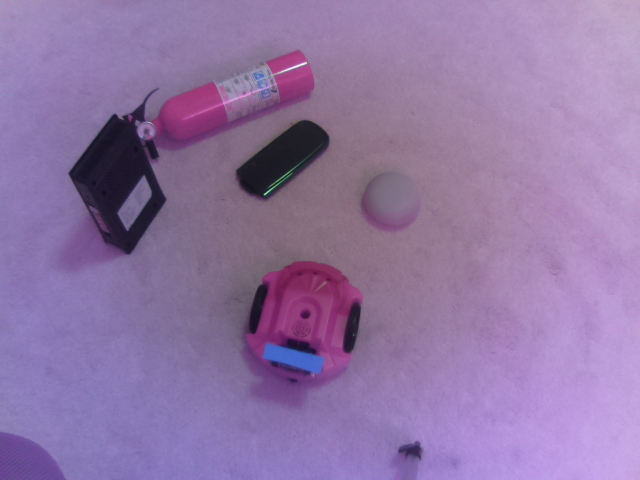board: (259, 337, 326, 375)
chassis: (239, 261, 369, 389)
